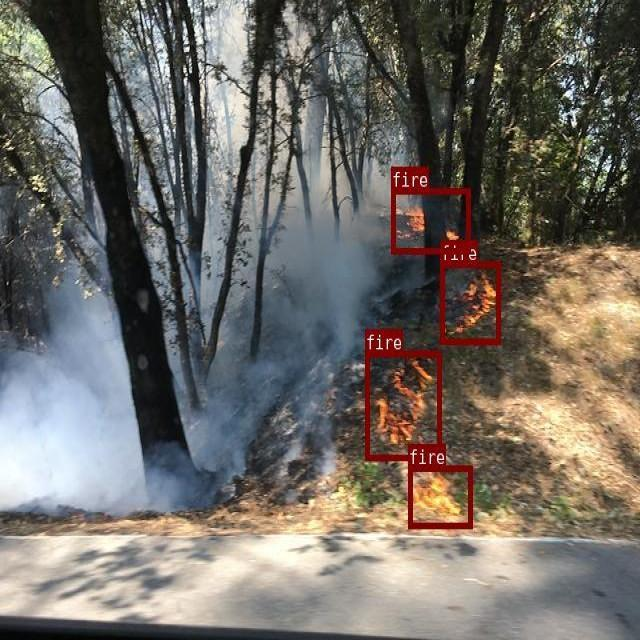fire: (365, 350, 440, 459), (391, 188, 469, 252), (440, 261, 500, 343), (407, 464, 471, 527)
